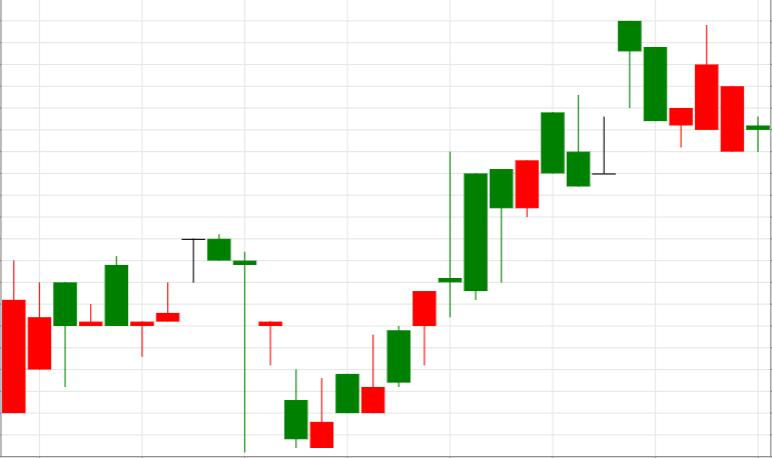hanging_man_fall: (311, 21, 642, 448)
